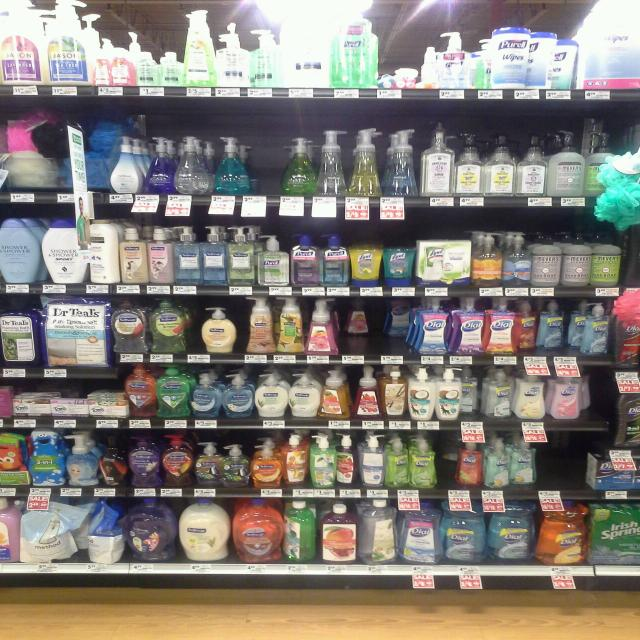empty: (536, 435, 592, 501), (241, 138, 290, 205)
